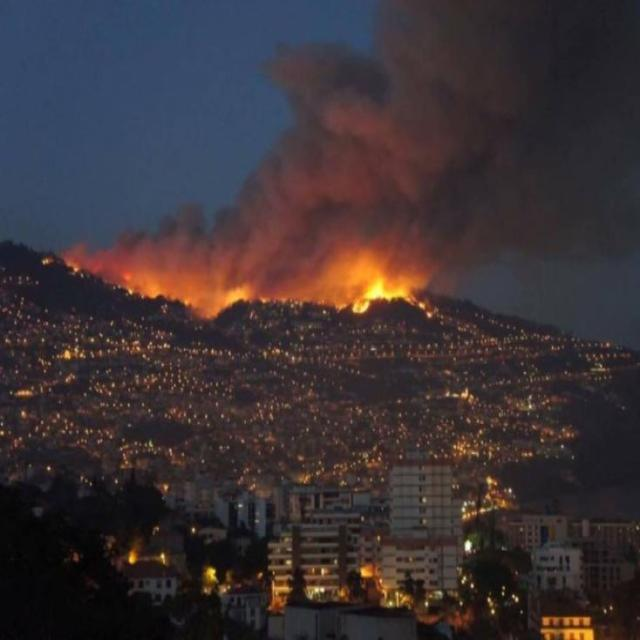Fire: (342, 244, 434, 324), (122, 260, 212, 320), (54, 225, 115, 285), (348, 276, 426, 317), (226, 279, 258, 310)
Smoke: (101, 9, 640, 273), (123, 25, 394, 256)
